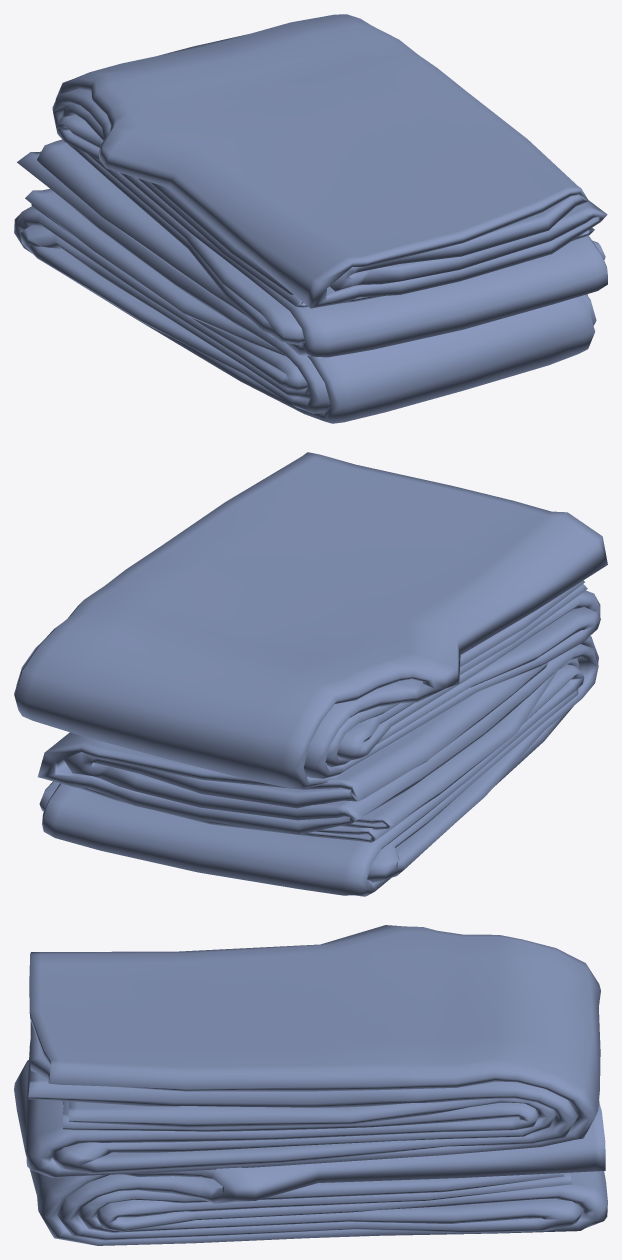
Rendered from Folded_Pant23.fbx.
3 views of the same model, one above another, from view 1: azimuth 30°, elevation 25°; view 2: azimuth 150°, elevation 25°; view 3: azimuth 270°, elevation 25° (orthographic). The views are drawn at different scales.
Parts seen in each view (by area): view 1: Folded_Pant23; view 2: Folded_Pant23; view 3: Folded_Pant23.
Boxes of the visible parts, bbox=[...] form: Folded_Pant23: bbox=[14, 14, 607, 423]; Folded_Pant23: bbox=[14, 452, 607, 896]; Folded_Pant23: bbox=[14, 925, 607, 1245].
Size of the model in its own units: 25.03 by 11.51 by 34.5.
Materials: 1 (1 with a texture image).
